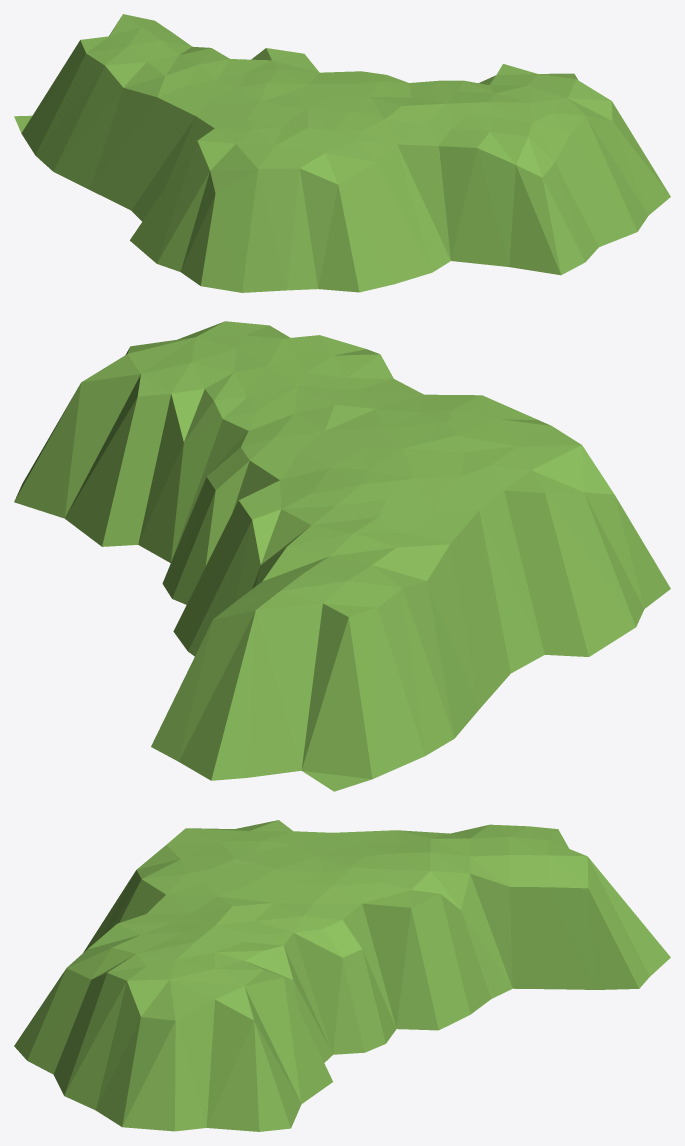
The model's file is MT_Island_M_a_02.fbx.
3 views of the same model, one above another, from view 1: azimuth 30°, elevation 25°; view 2: azimuth 150°, elevation 25°; view 3: azimuth 270°, elevation 25° (orthographic). The views are drawn at different scales.
Visible parts, largest first — view 1: MT_Island_M_a_02; view 2: MT_Island_M_a_02; view 3: MT_Island_M_a_02.
Boxes of the visible parts, x1,y1,x2,y2 form: MT_Island_M_a_02: (14, 14, 670, 292); MT_Island_M_a_02: (14, 321, 670, 791); MT_Island_M_a_02: (14, 820, 670, 1131).
Bounding box in the file's own units: 4458 × 982 × 5236.
